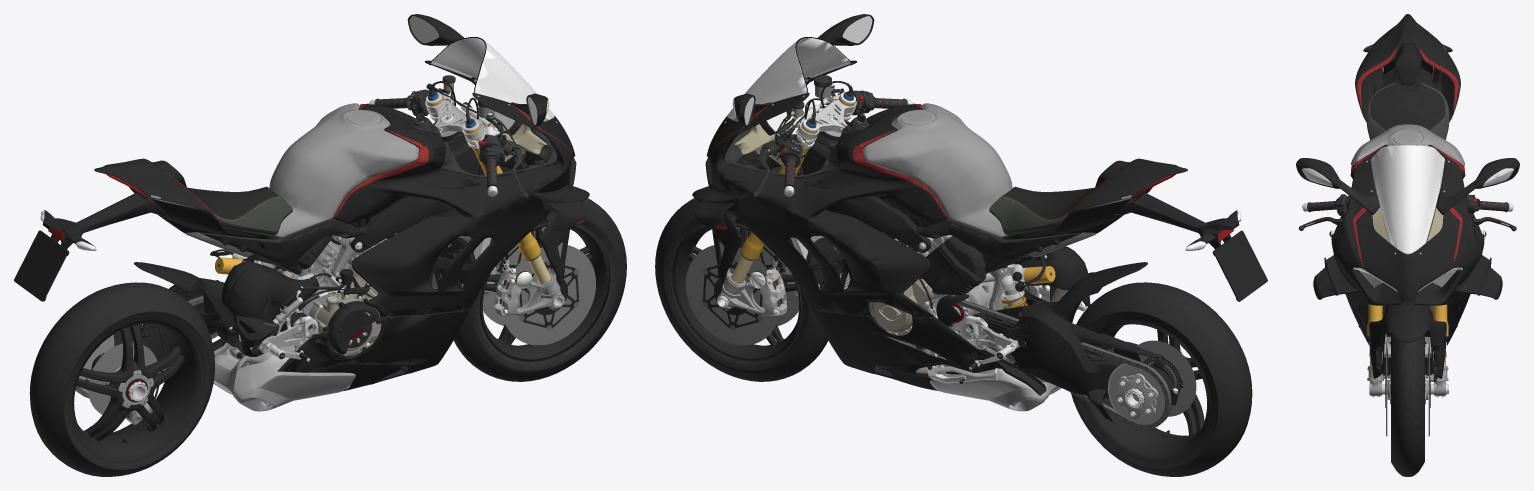
File: moto-mobile.glb
The picture shows the model from 3 angles, left to right: view 1: azimuth 30°, elevation 25°; view 2: azimuth 150°, elevation 25°; view 3: azimuth 270°, elevation 25°; orthographic projection. The views are drawn at different scales.
Visible parts, largest first — view 1: Object_15, Object_17, Object_4, Object_20, Object_5, Object_14, Object_9, Object_11, Object_13, Object_2, Object_12; view 2: Object_15, Object_17, Object_4, Object_20, Object_5, Object_14, Object_9, Object_13, Object_11, Object_2, Object_10, Object_7 (+1 smaller); view 3: Object_15, Object_13, Object_17, Object_9, Object_5, Object_14.
Part boxes in pixels (x1=…): Object_15: x1=14, y1=60, x2=589, y2=390; Object_17: x1=42, y1=14, x2=565, y2=424; Object_4: x1=29, y1=282, x2=214, y2=476; Object_20: x1=71, y1=223, x2=610, y2=459; Object_5: x1=369, y1=62, x2=556, y2=198; Object_14: x1=88, y1=227, x2=595, y2=416; Object_9: x1=453, y1=198, x2=626, y2=381; Object_11: x1=213, y1=341, x2=355, y2=411; Object_13: x1=40, y1=37, x2=554, y2=288; Object_2: x1=221, y1=258, x2=319, y2=357; Object_12: x1=409, y1=16, x2=537, y2=125; Object_15: x1=692, y1=60, x2=1267, y2=422; Object_17: x1=717, y1=14, x2=1239, y2=418; Object_4: x1=1071, y1=282, x2=1252, y2=476; Object_20: x1=671, y1=223, x2=1210, y2=459; Object_5: x1=725, y1=63, x2=912, y2=198; Object_14: x1=686, y1=227, x2=1196, y2=416; Object_9: x1=655, y1=198, x2=828, y2=381; Object_13: x1=727, y1=37, x2=1241, y2=288; Object_11: x1=930, y1=346, x2=1061, y2=411; Object_2: x1=915, y1=246, x2=1088, y2=373; Object_10: x1=949, y1=300, x2=1171, y2=429; Object_7: x1=952, y1=303, x2=1164, y2=424; Object_15: x1=1313, y1=14, x2=1502, y2=378; Object_13: x1=1302, y1=44, x2=1513, y2=357; Object_17: x1=1296, y1=44, x2=1519, y2=397; Object_9: x1=1391, y1=335, x2=1424, y2=476; Object_5: x1=1299, y1=194, x2=1516, y2=231; Object_14: x1=1385, y1=343, x2=1430, y2=436.
Bounding box in the file's own units: 2.1 × 1.19 × 0.7986.
Materials: 16 (14 with a texture image).
